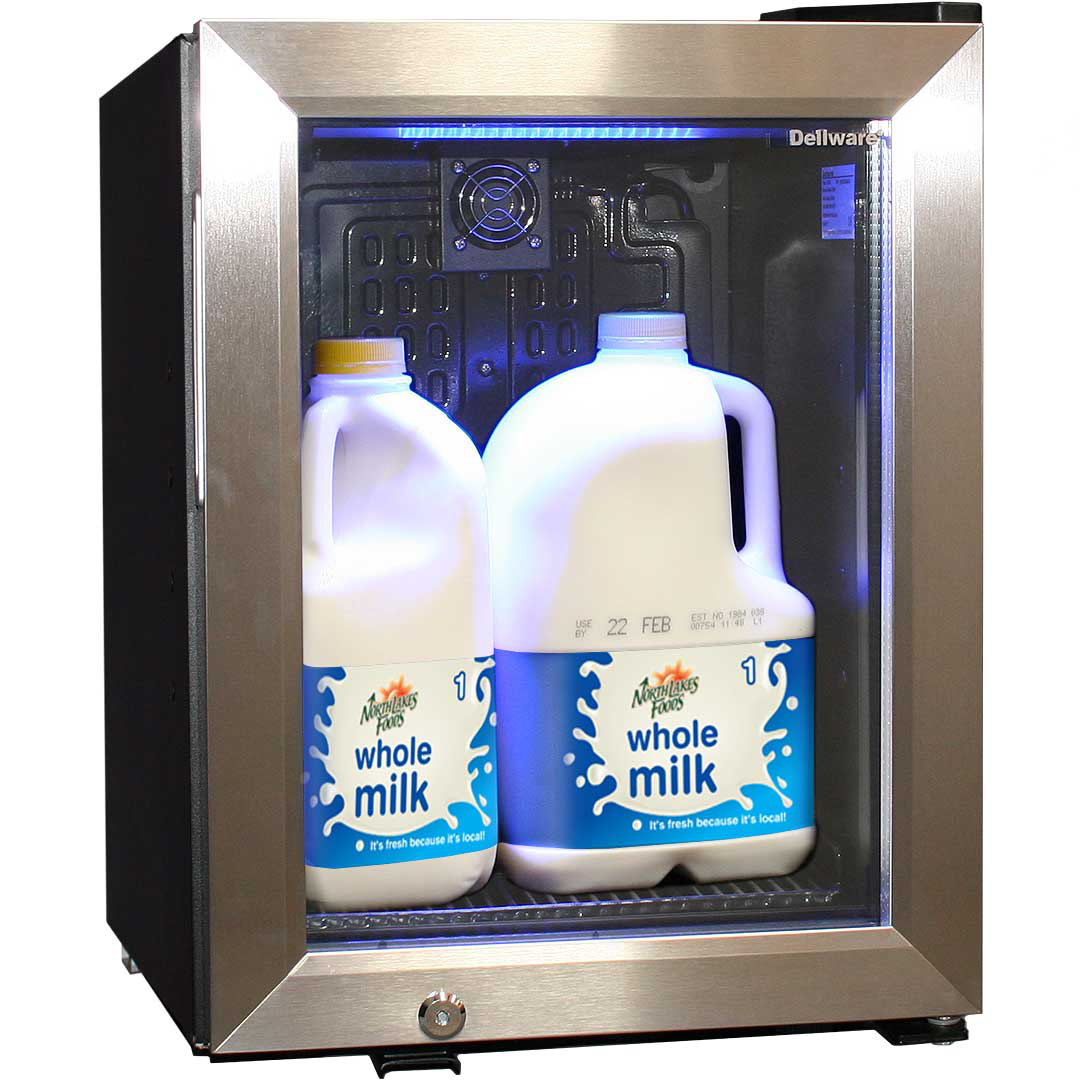milk: (300, 311, 818, 904)
